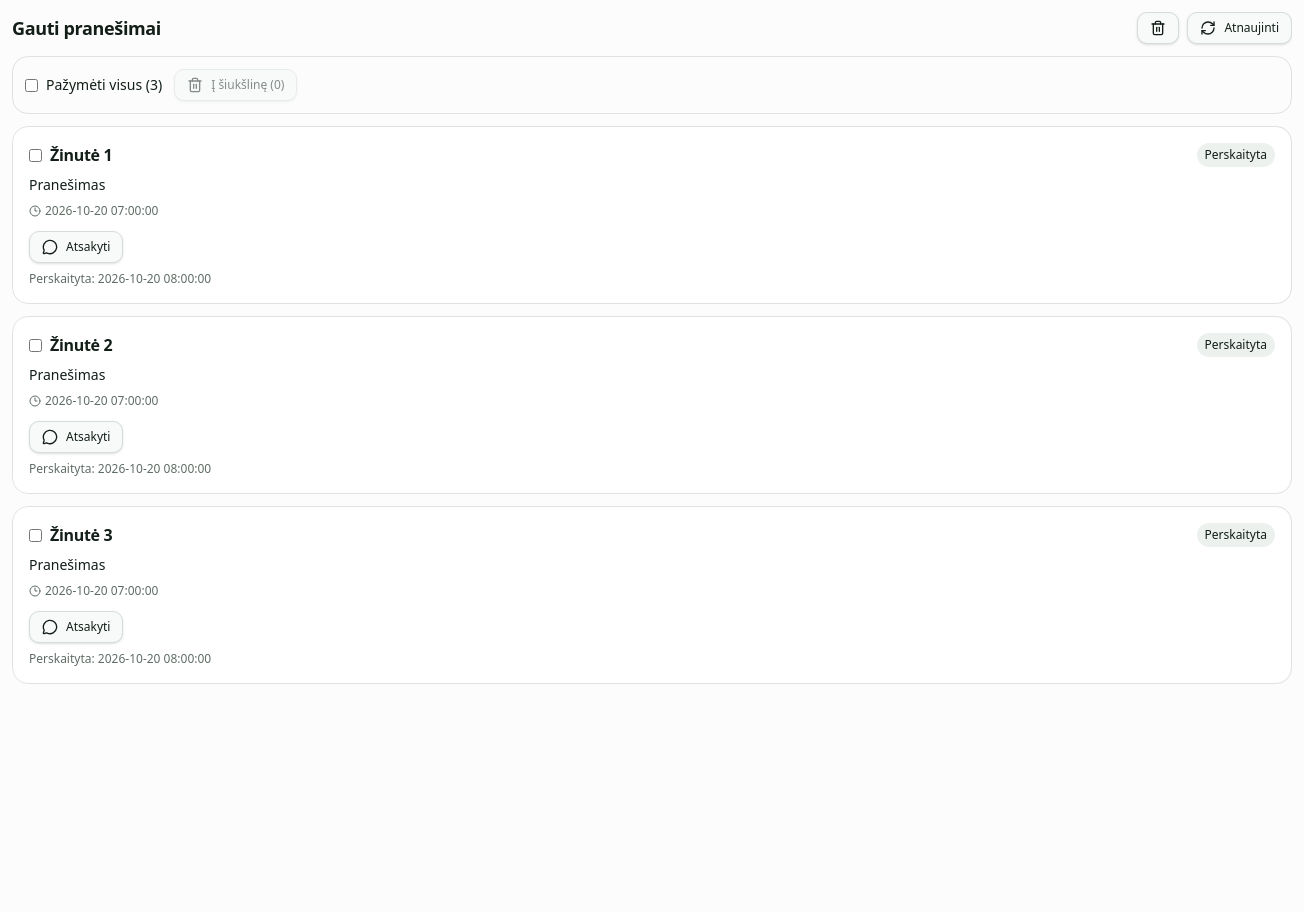
ŠA V2.3.23 multi-select inbox › offers select-all and requires selection before enabling bulk action
Expected: the heading "Žinutė 1" is shown, left=50, top=143, right=112, bottom=167
Expected: the button "Į šiukšlinę (0)" is disabled, left=174, top=69, right=297, bottom=101
Click the checkbox named "Pažymėti visus gautus pranešimus" at (32, 85), box left=25, top=78, right=38, bottom=92
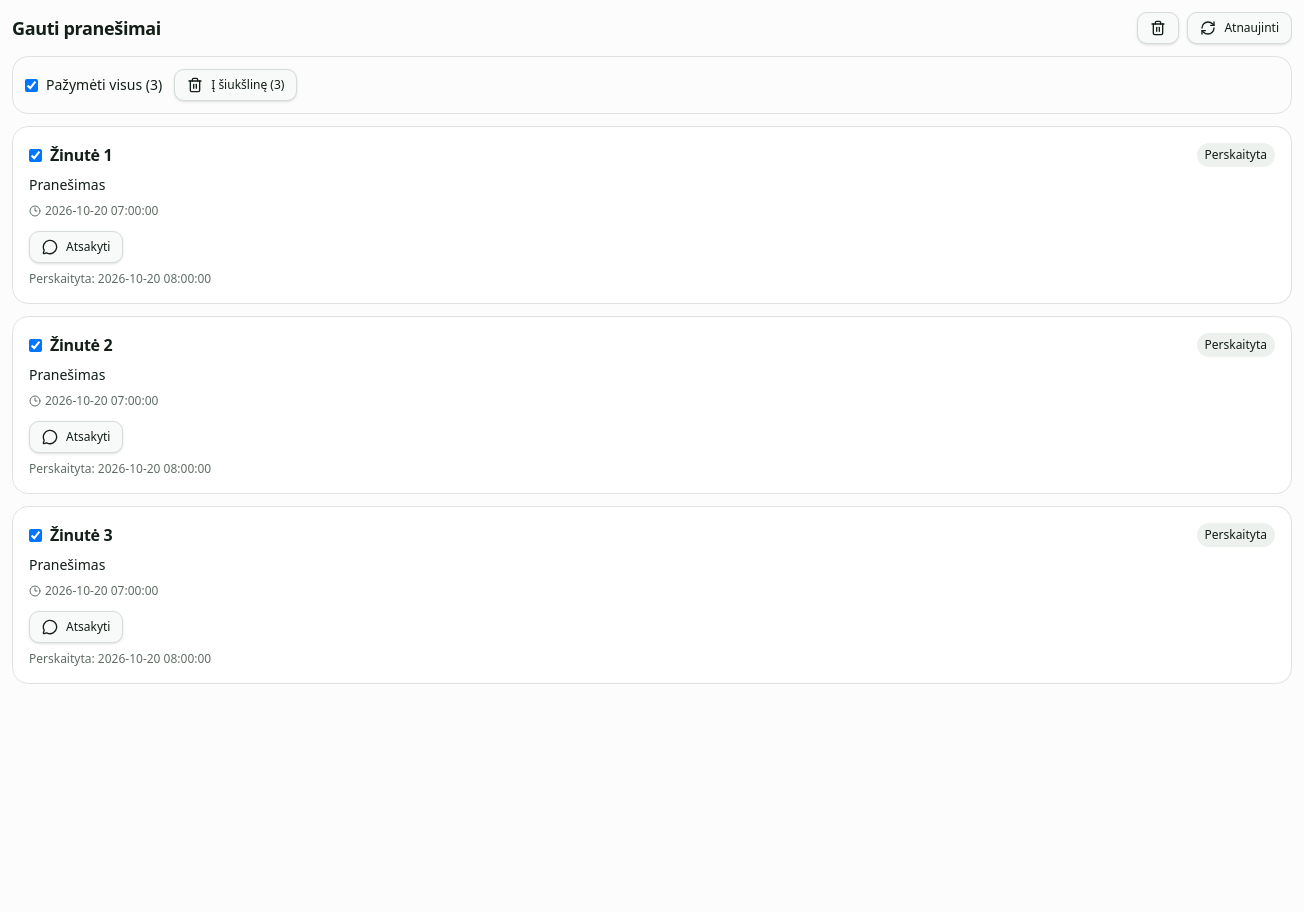
Expected: the button "Į šiukšlinę (3)" is enabled, left=174, top=69, right=297, bottom=101
